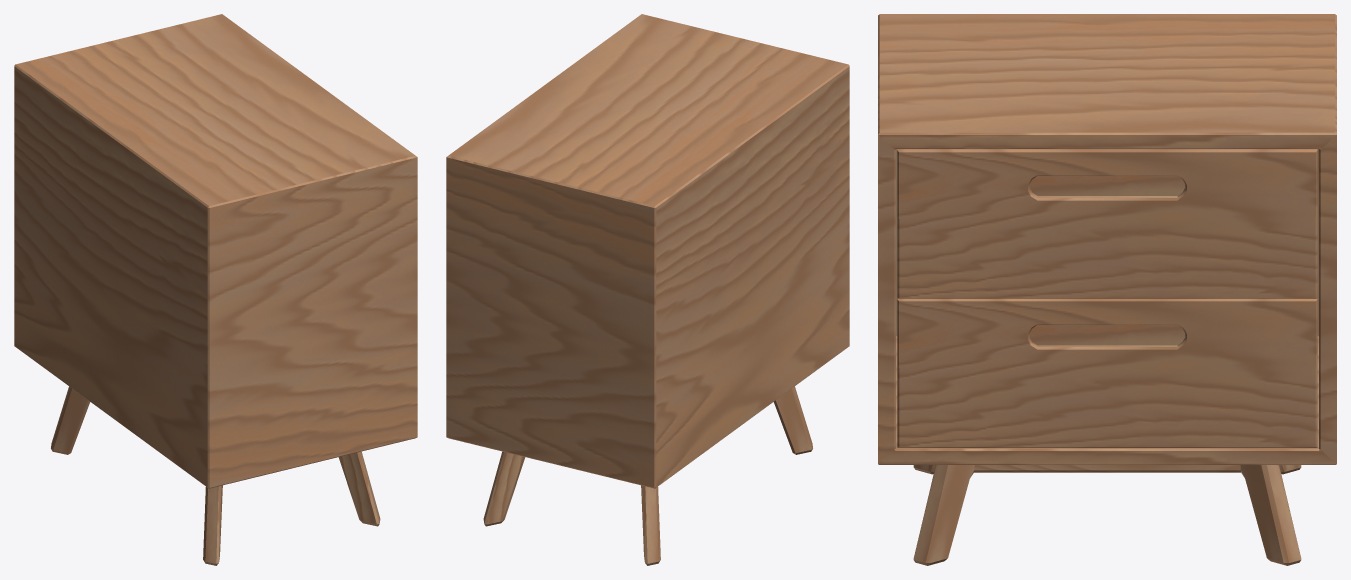
The model's file is bedsideTable1.obj.
The picture shows the model from 3 angles, left to right: view 1: azimuth 30°, elevation 25°; view 2: azimuth 150°, elevation 25°; view 3: azimuth 270°, elevation 25°; orthographic projection. The views are drawn at different scales.
Parts seen in each view (by area): view 1: Cube.028; view 2: Cube.028; view 3: Cube.028.
Part boxes in pixels (<box>): Cube.028: <box>14,14,417,565</box>; Cube.028: <box>446,14,849,565</box>; Cube.028: <box>878,14,1336,565</box>.
Bounding box in the file's own units: 0.239 × 0.4107 × 0.3858.
